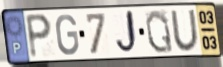7: (85, 11, 108, 57)
G: (54, 13, 80, 57)
J: (114, 8, 139, 57)
P: (24, 12, 54, 60)
Q: (144, 8, 175, 55)
U: (169, 8, 201, 53)
